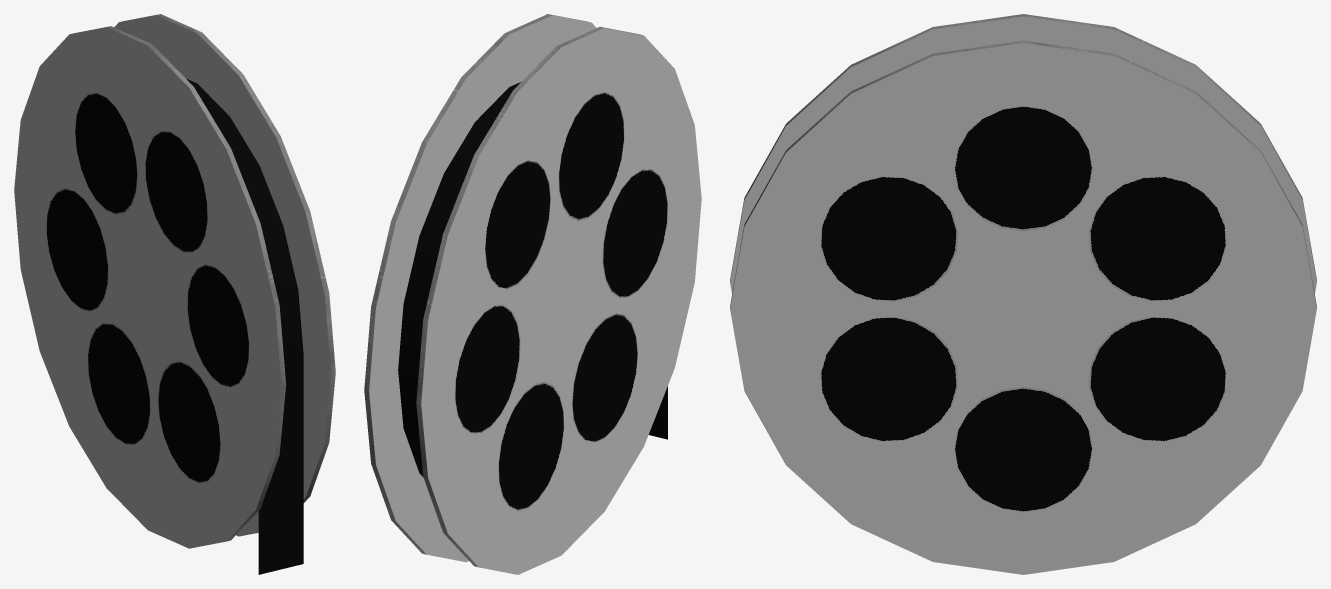
File: WW_reel_prop.fbx
The picture shows the model from 3 angles, left to right: view 1: azimuth 30°, elevation 25°; view 2: azimuth 150°, elevation 25°; view 3: azimuth 270°, elevation 25°; orthographic projection. The views are drawn at different scales.
Parts seen in each view (by area): view 1: reel_geo; view 2: reel_geo; view 3: reel_geo.
Boxes of the visible parts, x1,y1,x2,y2 form: reel_geo: (14,14,335,574); reel_geo: (364,14,701,574); reel_geo: (730,14,1316,574).
Size of the model in its own units: 2.34 by 20 by 20.
Materials: 1 (1 with a texture image).
